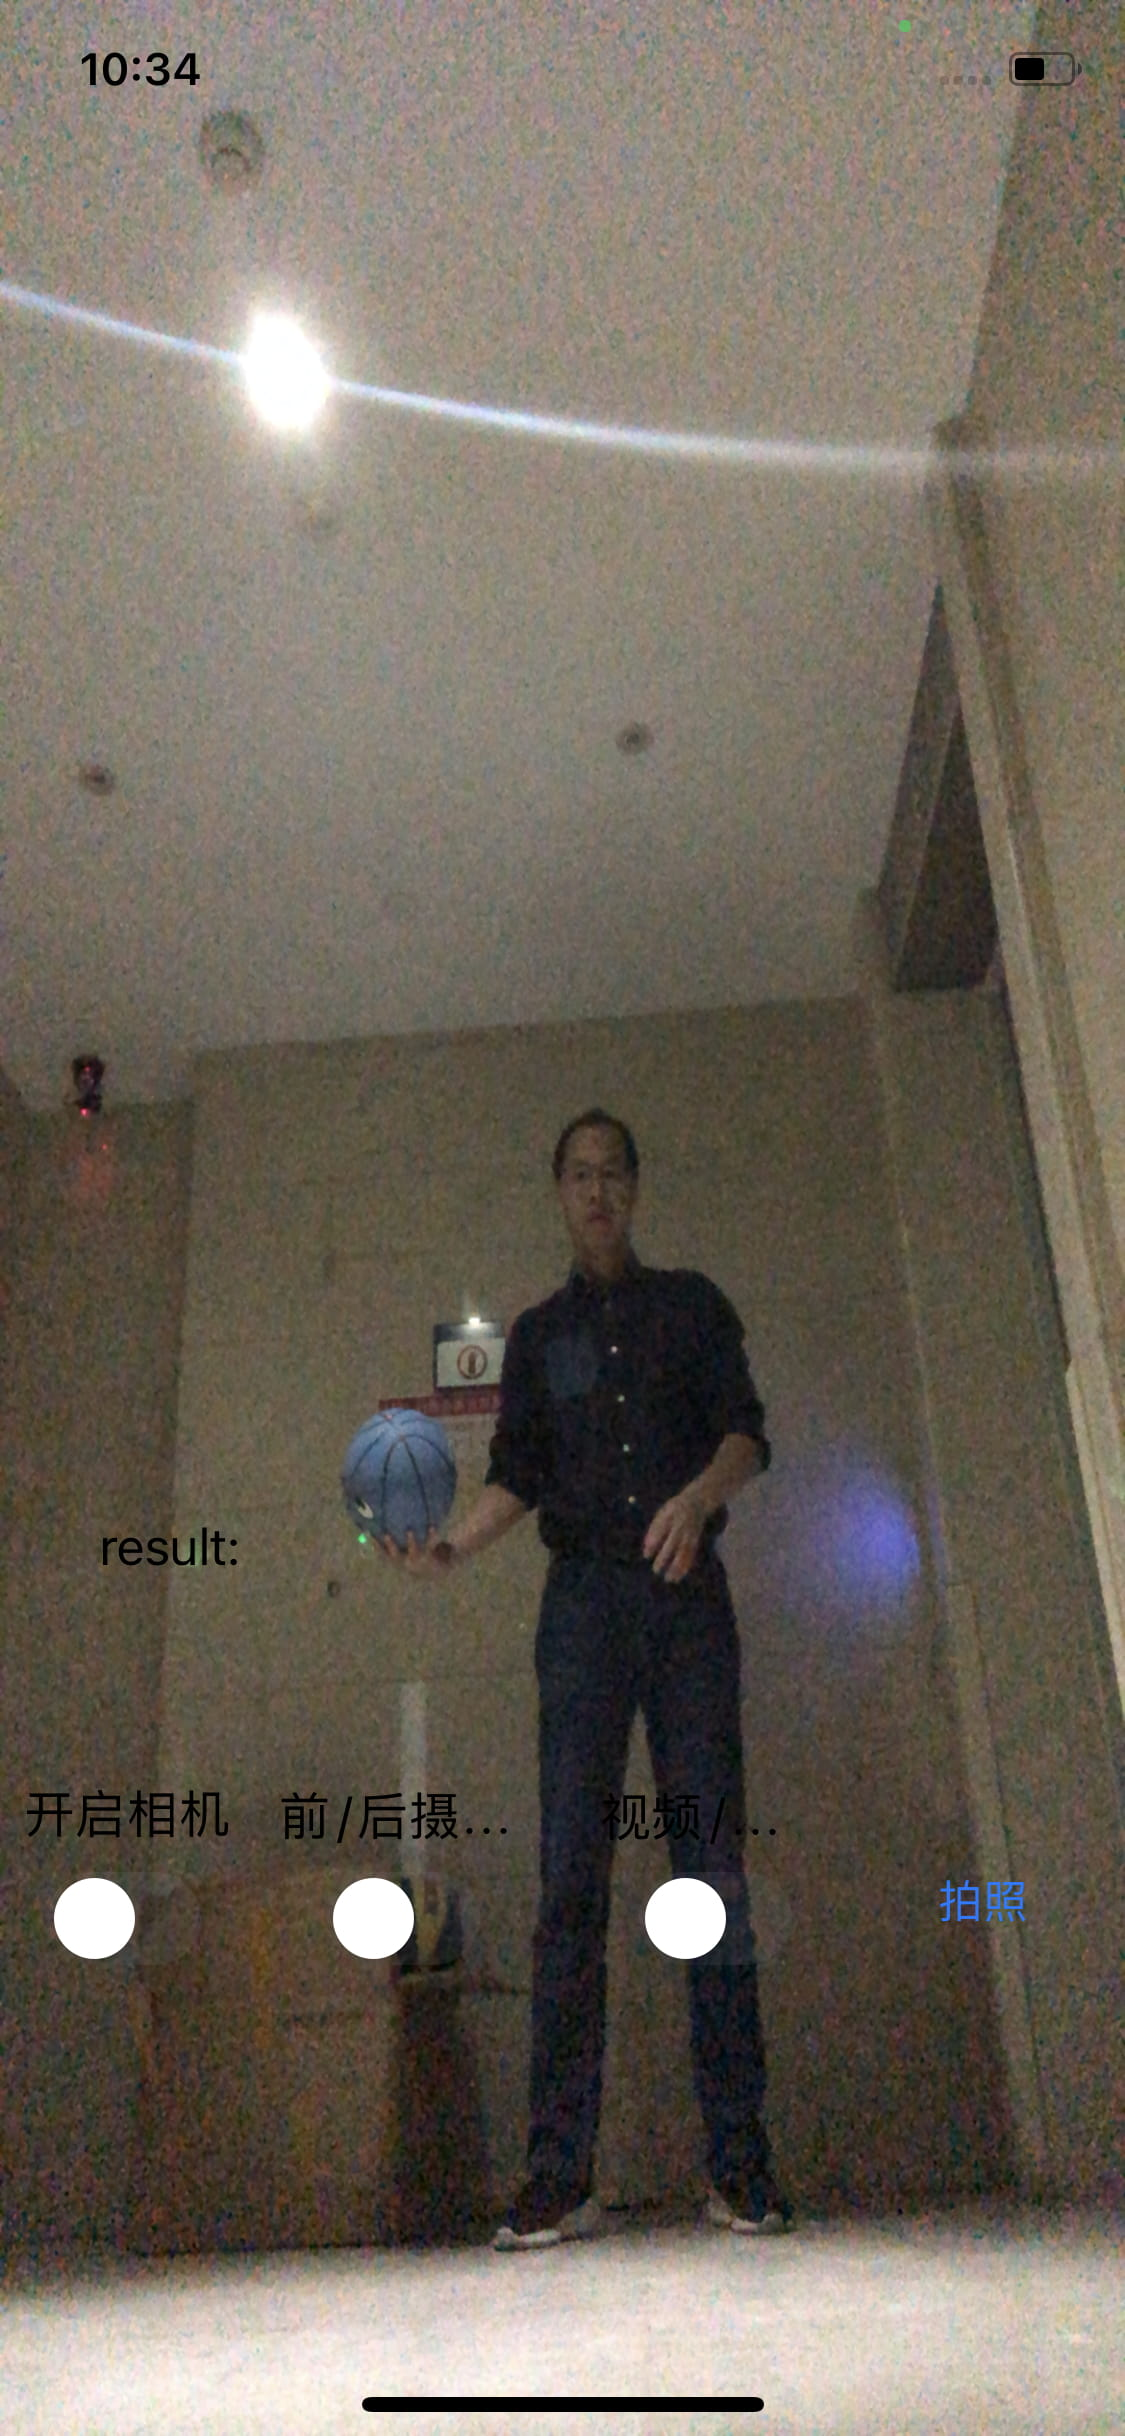ball: (347, 1408, 454, 1538)
